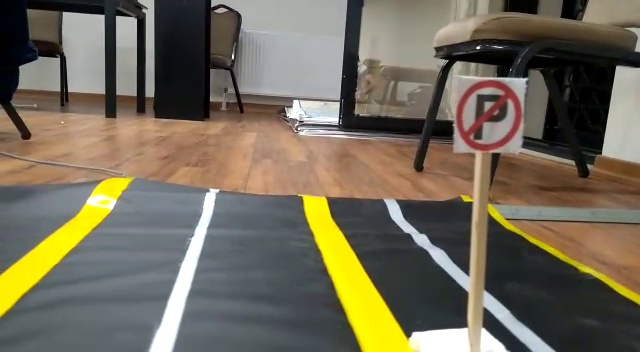park_yapilmaz: (451, 77, 525, 152)
